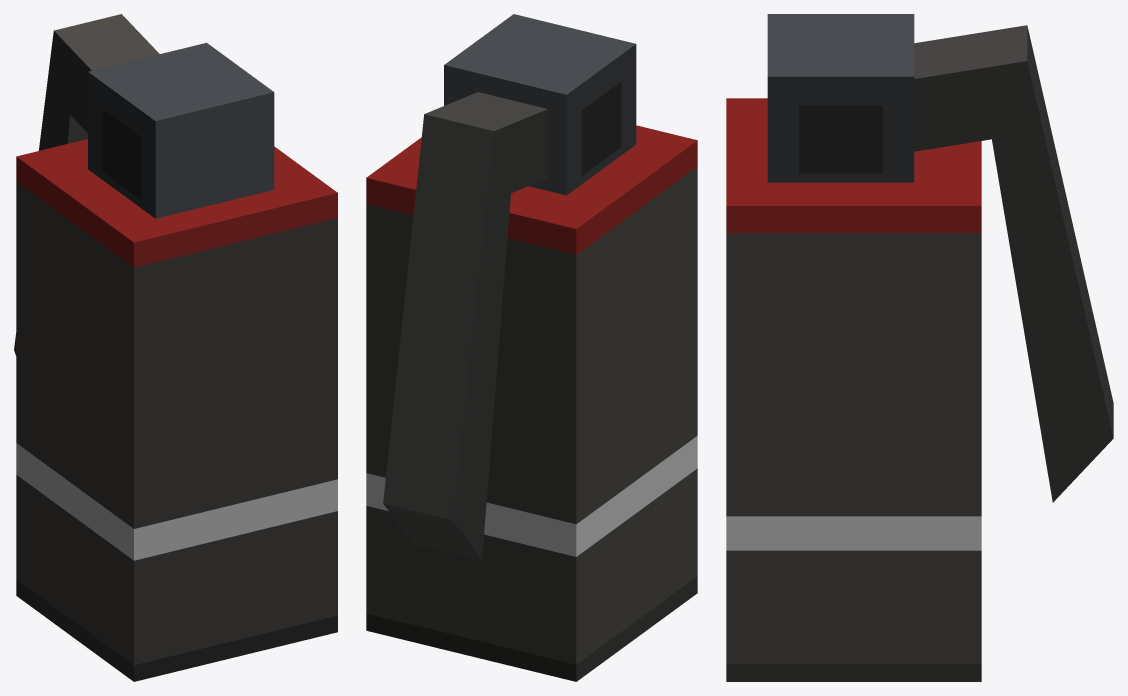
The model's file is Grenade_Smoke.fbx.
3 views of the same model, side by side, from view 1: azimuth 30°, elevation 25°; view 2: azimuth 150°, elevation 25°; view 3: azimuth 270°, elevation 25° (orthographic). The views are drawn at different scales.
Parts seen in each view (by area): view 1: Grenade_Smoke; view 2: Grenade_Smoke; view 3: Grenade_Smoke.
Part boxes in pixels (x1=…): Grenade_Smoke: x1=14, y1=14, x2=337, y2=681; Grenade_Smoke: x1=366, y1=14, x2=697, y2=681; Grenade_Smoke: x1=726, y1=14, x2=1113, y2=681.
Bounding box in the file's own units: 42 × 106 × 63.73.
